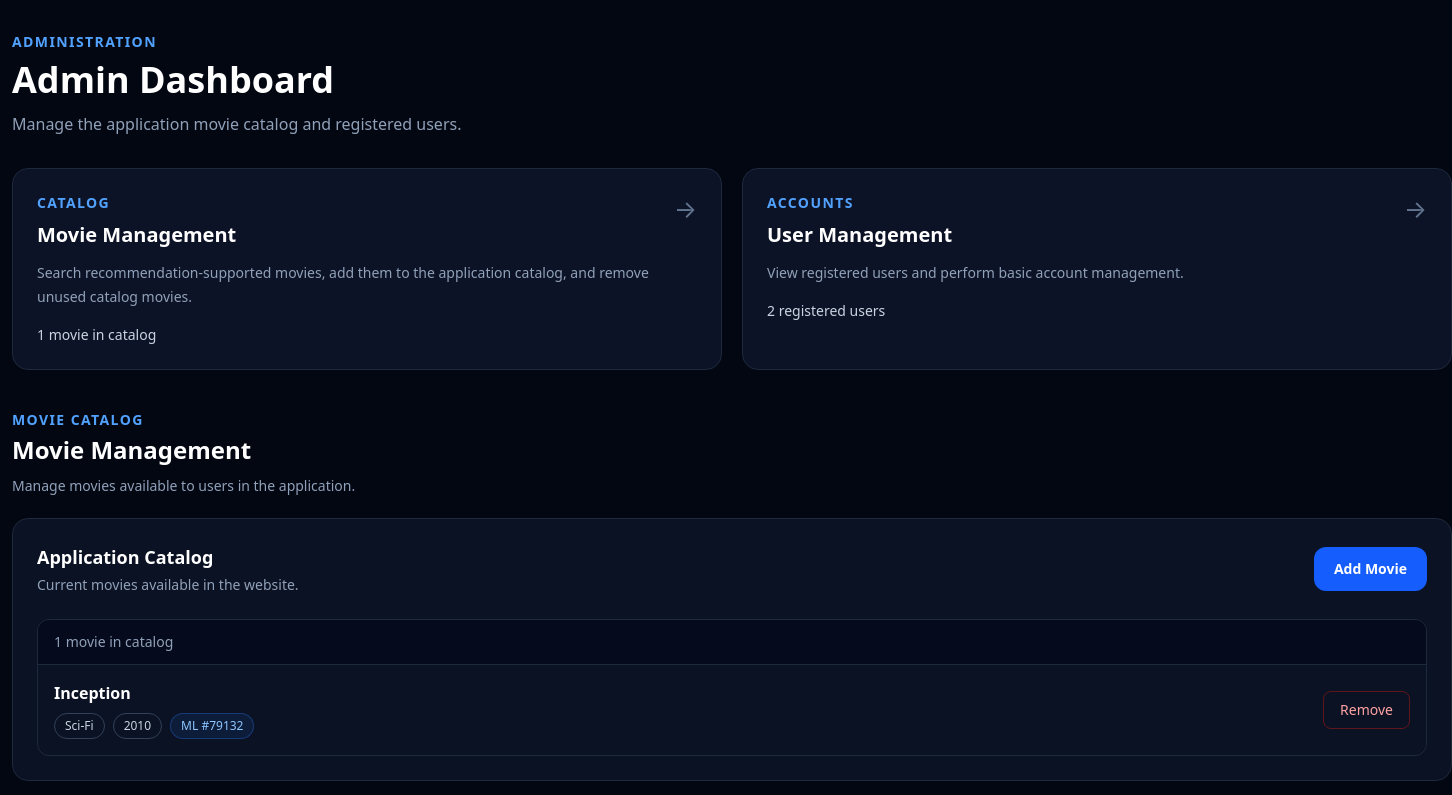
Scenario: AdminDashboard › removes a movie from the catalog
Expected: the link "Inception" is shown, [54,682,131,704]
Click the button "Remove" at (1367, 710), box [1323,691,1410,729]
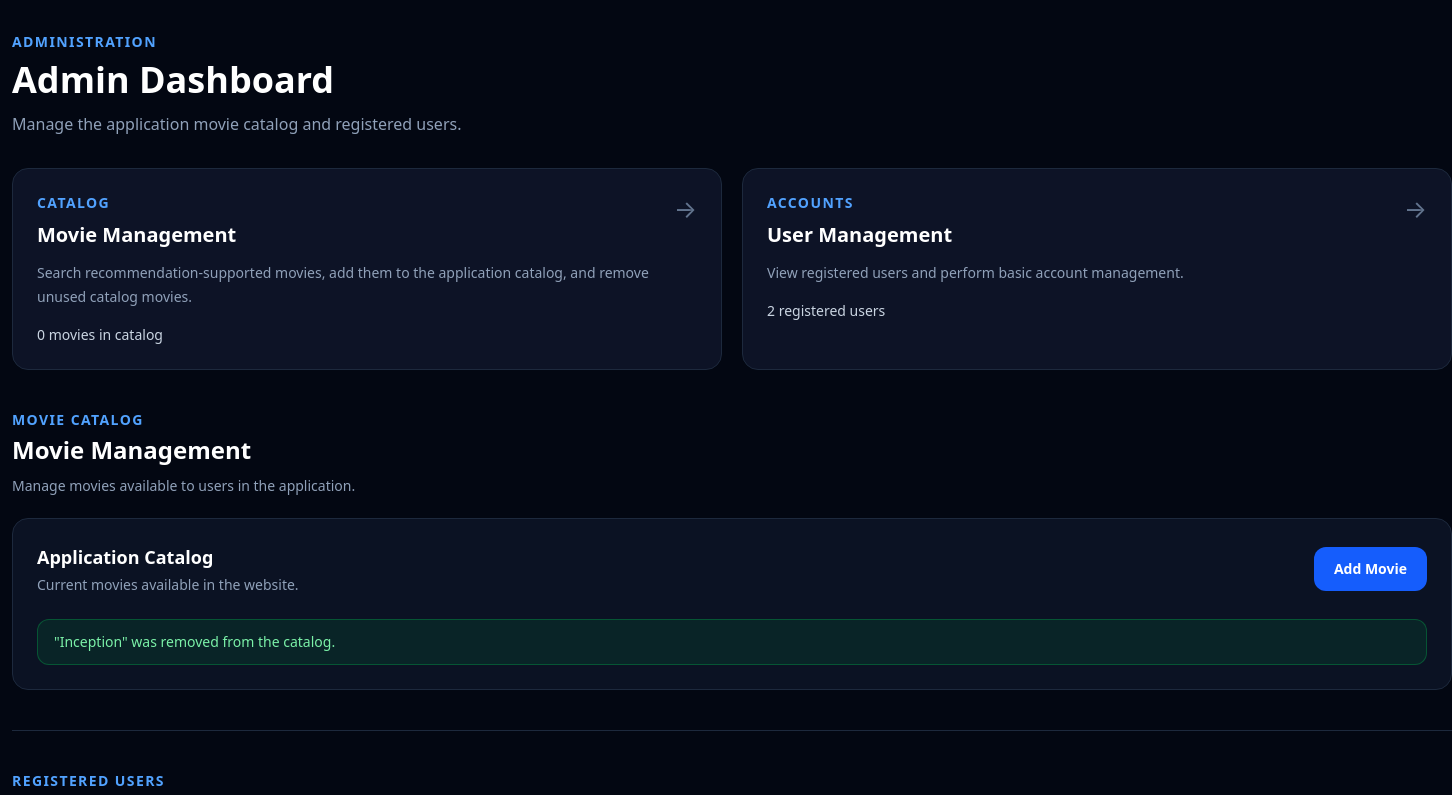
Expected: the text "\"Inception\" was removed from the catalog." is shown, [54,632,335,651]
